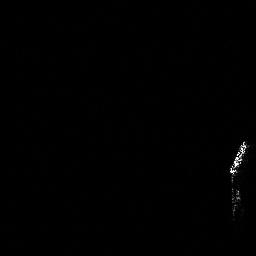ship: (226, 138, 250, 219)
